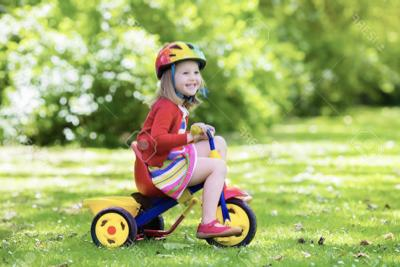With Helmet: (153, 37, 210, 107)
